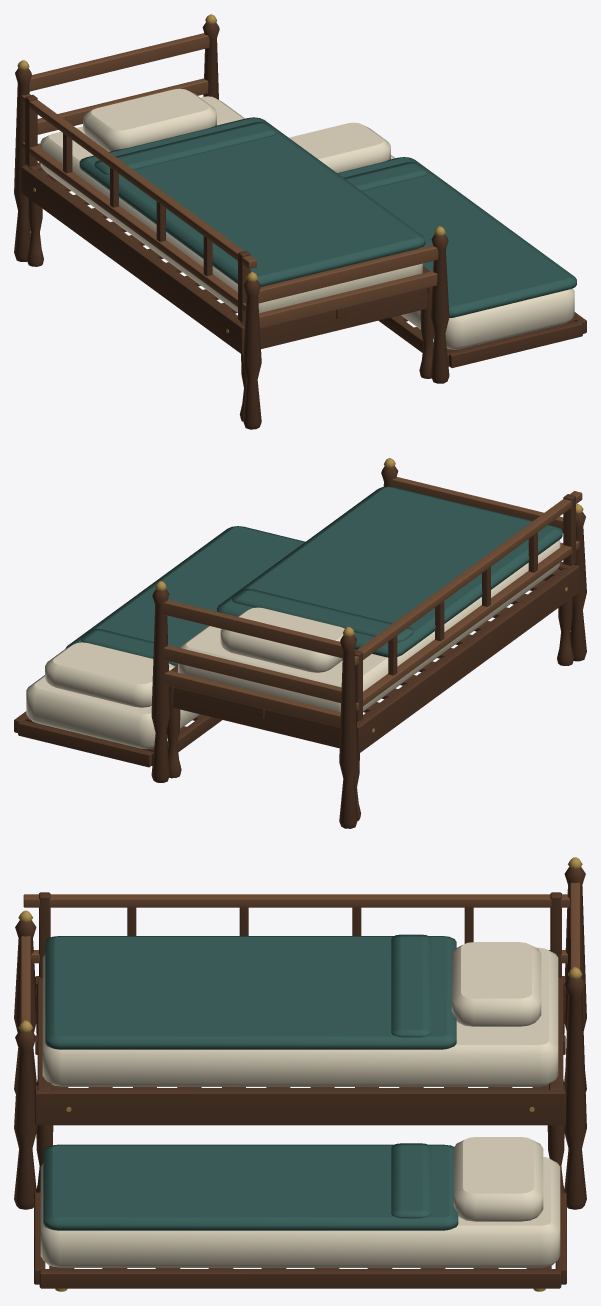
Rendered from rpg-mansion-daybed-deployed-trundle-variant-01.glb.
3 renders of one model, top to bottom at view 1: azimuth 30°, elevation 25°; view 2: azimuth 150°, elevation 25°; view 3: azimuth 270°, elevation 25°, orthographic. The views are drawn at different scales.
Parts seen in each view (by area): view 1: rpg-mansion-daybed-deployed-trundle-variant-01; view 2: rpg-mansion-daybed-deployed-trundle-variant-01; view 3: rpg-mansion-daybed-deployed-trundle-variant-01.
Part boxes in pixels (x1,y1,x2,y2): rpg-mansion-daybed-deployed-trundle-variant-01: [14, 14, 586, 429]; rpg-mansion-daybed-deployed-trundle-variant-01: [14, 458, 586, 828]; rpg-mansion-daybed-deployed-trundle-variant-01: [14, 857, 586, 1291].
Size of the model in its own units: 1.81 by 0.98 by 2.14.
